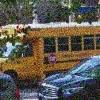buses: (0, 23, 99, 84)
